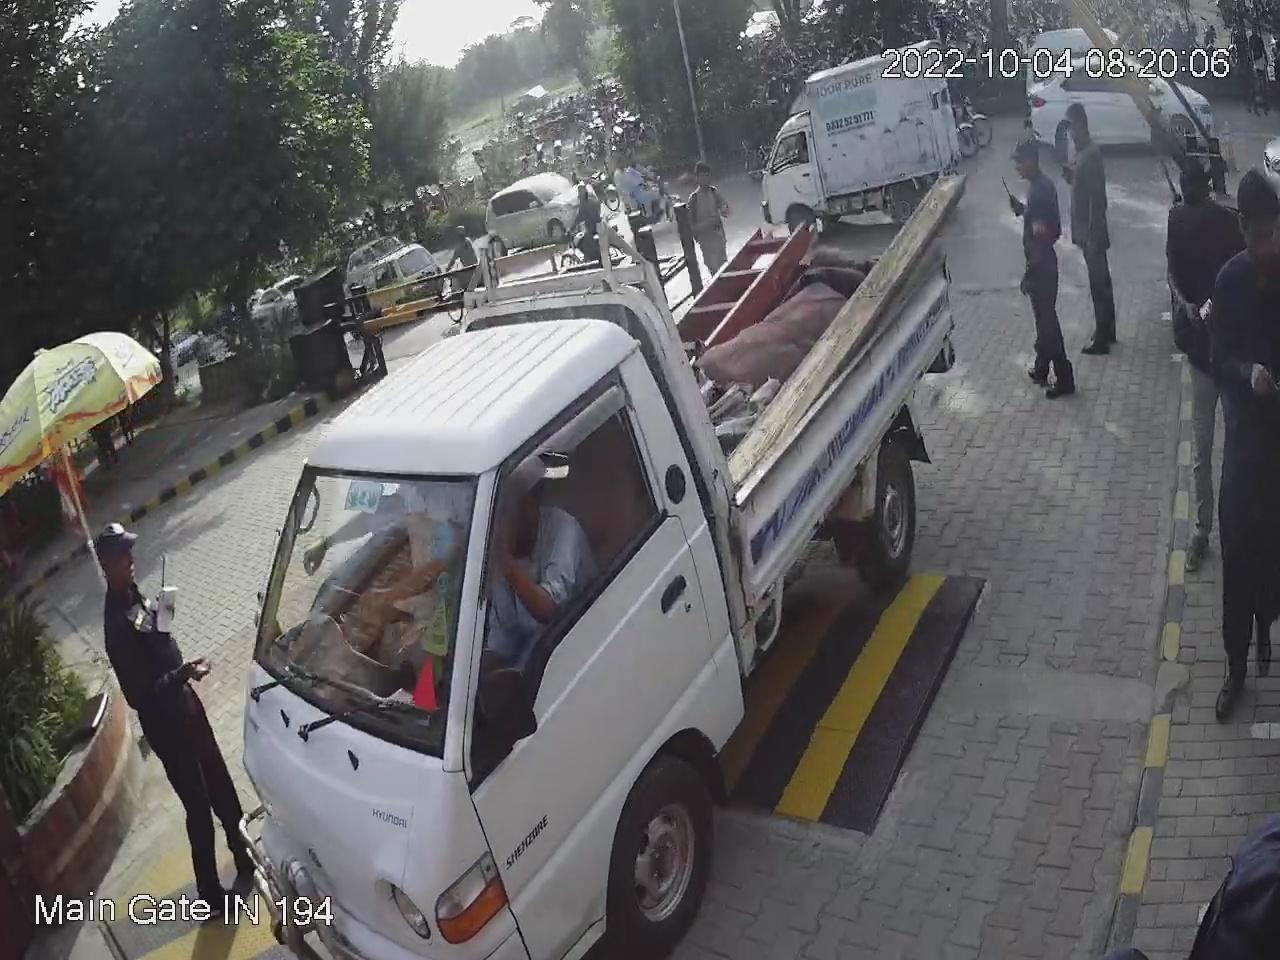windshield: (243, 453, 486, 790)
